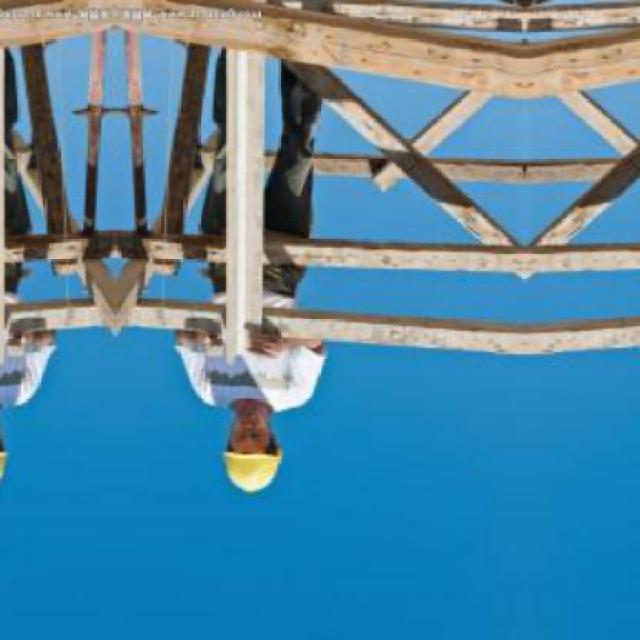con casco: (181, 385, 317, 493)
